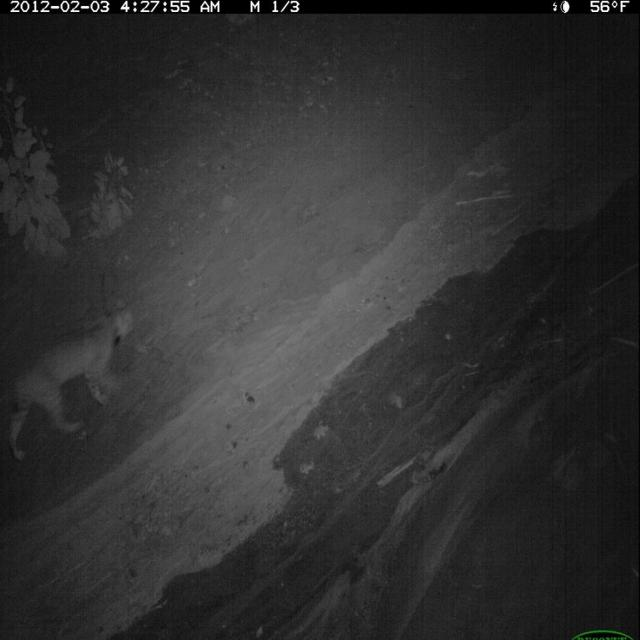bobcat: (4, 289, 137, 470)
